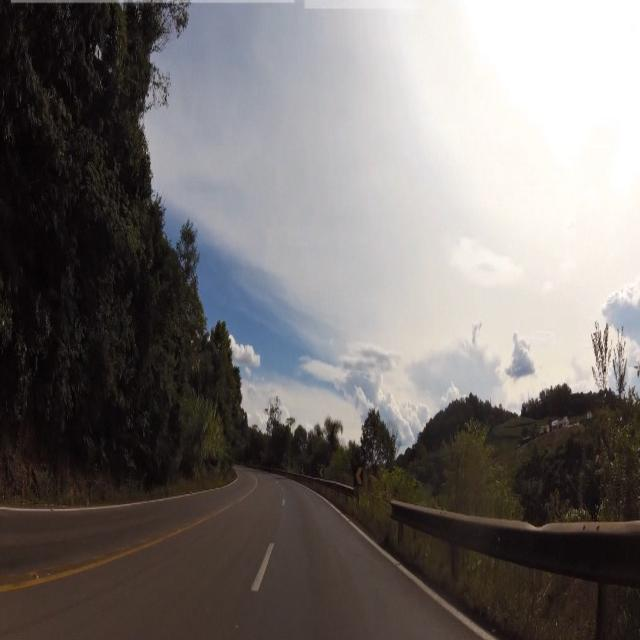Del: (354, 463, 365, 484)
